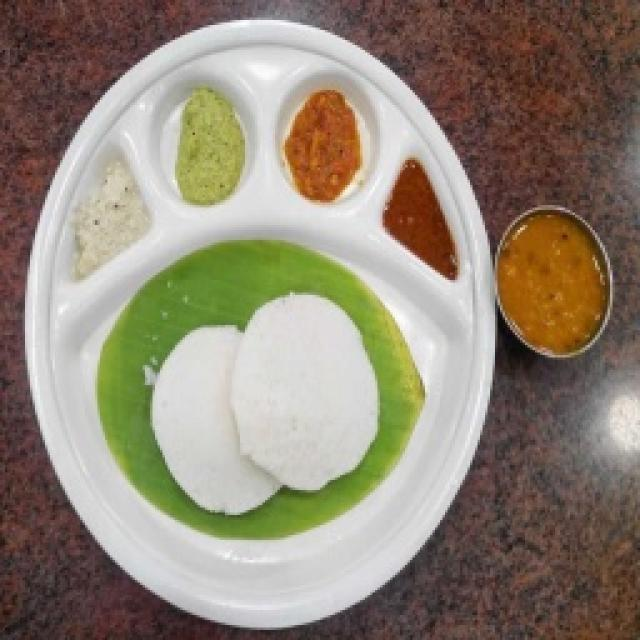idli: (230, 295, 379, 489), (153, 328, 279, 514)
